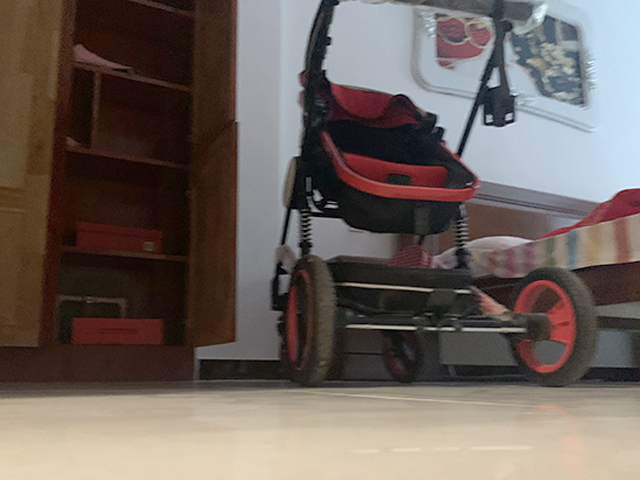bed: (470, 180, 640, 336)
cabinet: (1, 1, 242, 382)
